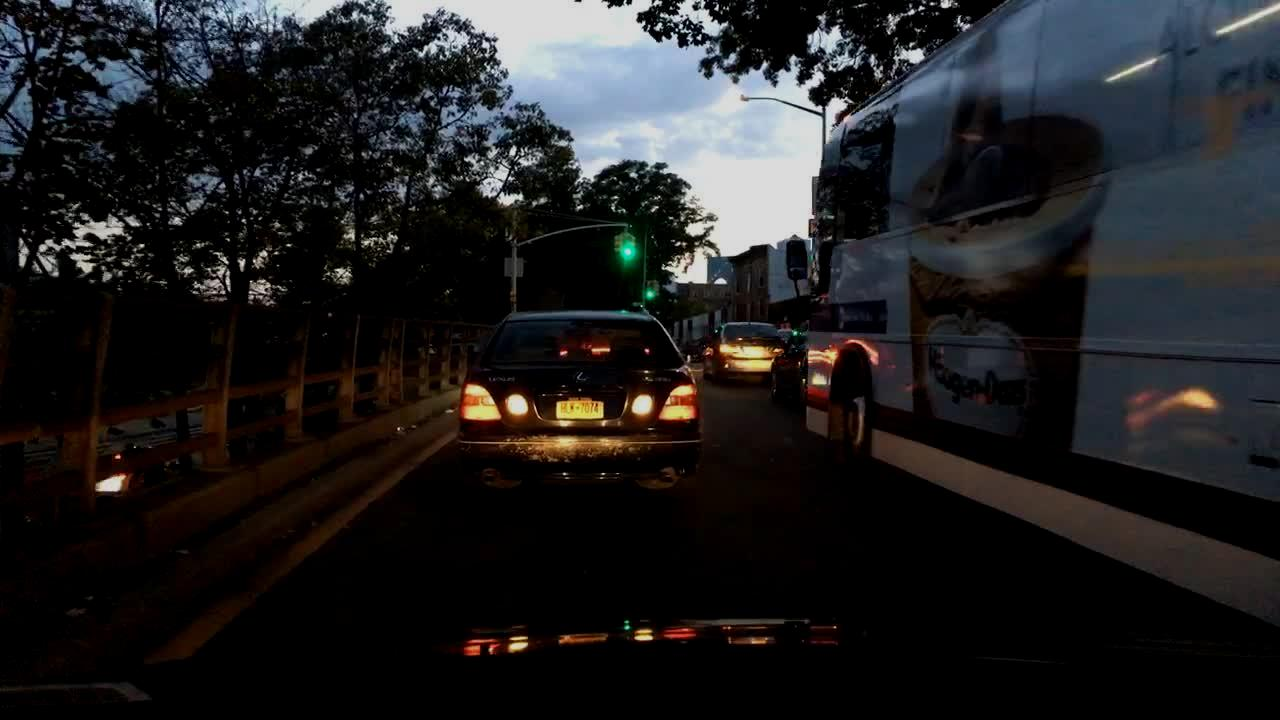lexus: (564, 366, 594, 387)
